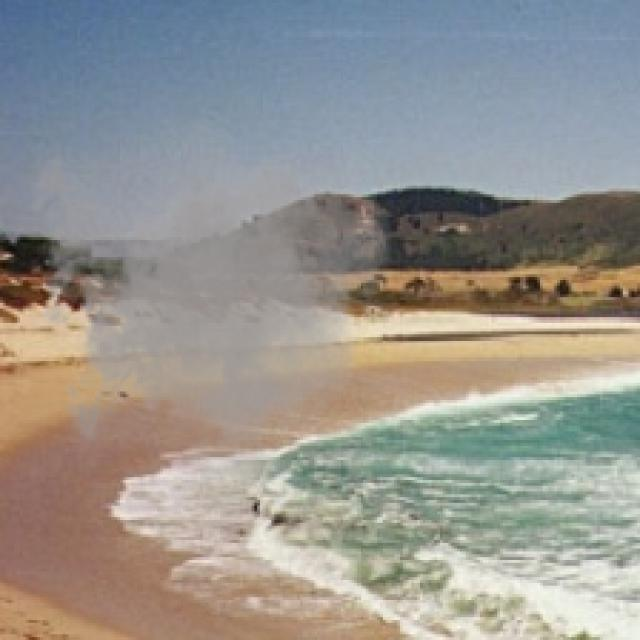smoke: (20, 97, 397, 500)
